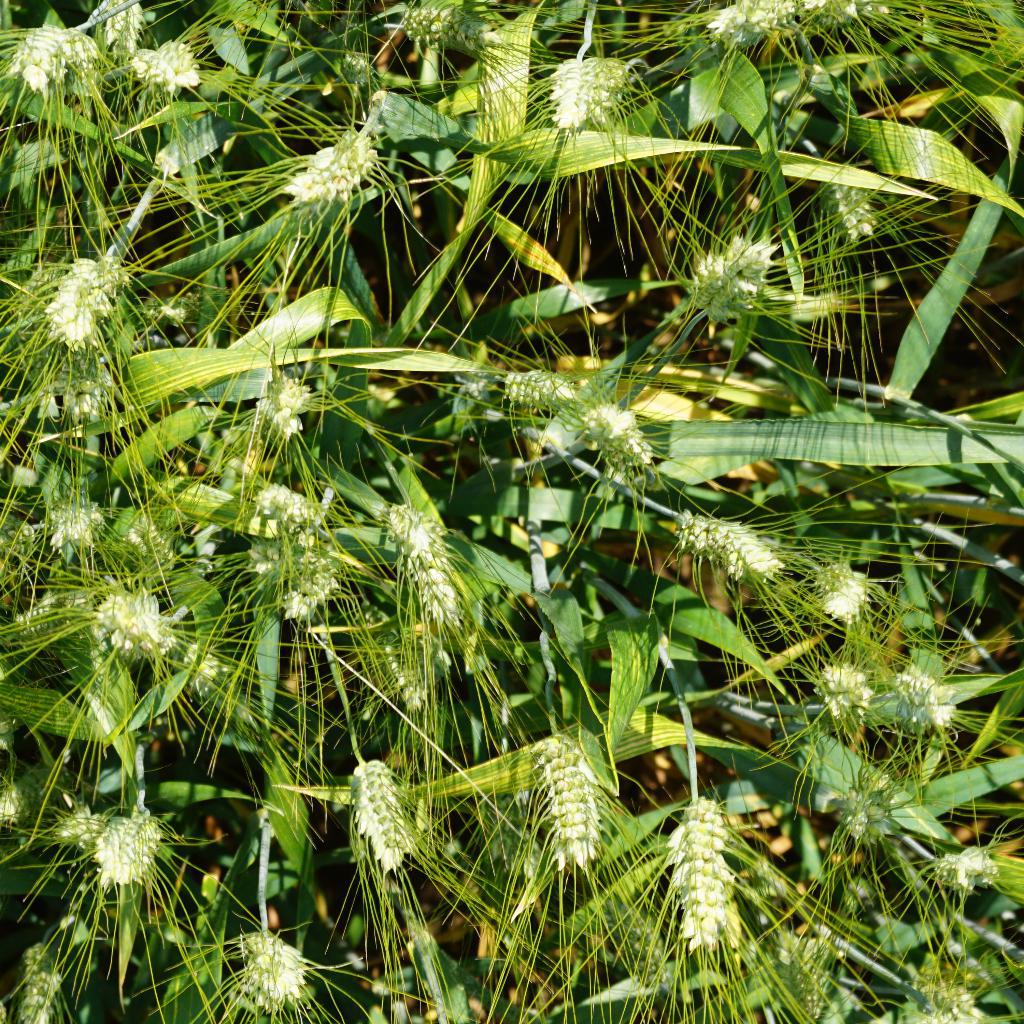0-0: (665, 777, 744, 953), (382, 501, 479, 628), (530, 727, 613, 874), (273, 119, 388, 219), (342, 754, 429, 885), (669, 500, 789, 589), (221, 911, 314, 1017), (40, 240, 131, 347), (666, 235, 785, 313), (469, 752, 533, 897), (394, 0, 515, 70), (806, 153, 888, 247), (245, 355, 325, 449), (882, 647, 967, 735), (257, 549, 355, 623), (773, 922, 843, 1024), (90, 582, 179, 661), (98, 789, 163, 896), (582, 403, 668, 482), (800, 638, 877, 725), (115, 512, 204, 586), (373, 634, 448, 721), (49, 342, 126, 426), (836, 757, 907, 848), (896, 964, 1001, 1024), (802, 548, 877, 631), (127, 34, 223, 98), (11, 11, 82, 93), (594, 44, 660, 131), (38, 474, 107, 557), (14, 931, 74, 1024), (504, 355, 590, 419), (690, 0, 795, 50), (916, 833, 1000, 894), (120, 283, 211, 336), (2, 586, 81, 645), (546, 49, 602, 129), (256, 484, 331, 541), (92, 0, 157, 56), (168, 639, 236, 692), (51, 795, 109, 856), (0, 509, 48, 566), (328, 44, 380, 95)
